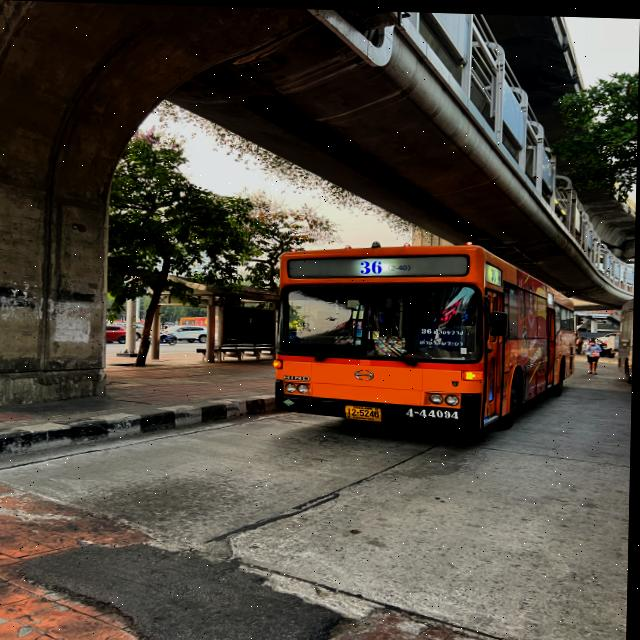BMTA-bus: (272, 238, 578, 433)
Bus-Line-Number: (352, 255, 416, 275)
Destination-Sign-Normal: (418, 324, 467, 345)
